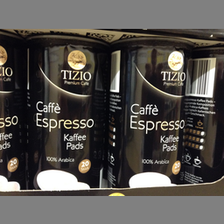coffee: (23, 33, 107, 190), (106, 37, 189, 186)
